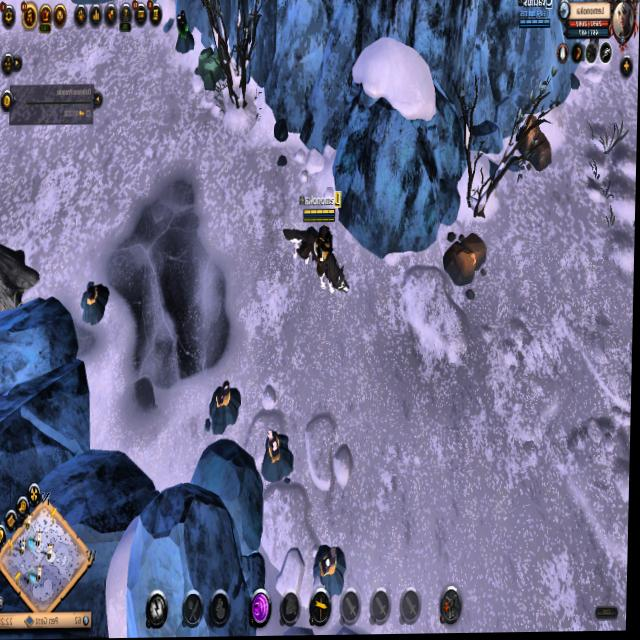ore tier 2: (260, 426, 297, 490), (204, 377, 243, 437), (80, 279, 111, 328), (315, 544, 348, 590)
ore tier 3: (173, 6, 195, 56)
rock tier 2: (443, 229, 489, 303)
